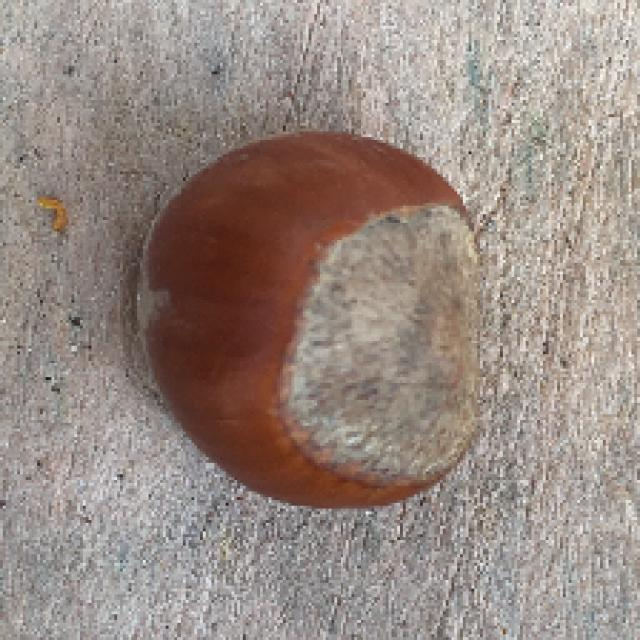qualityHazelnut: (129, 128, 483, 517)
